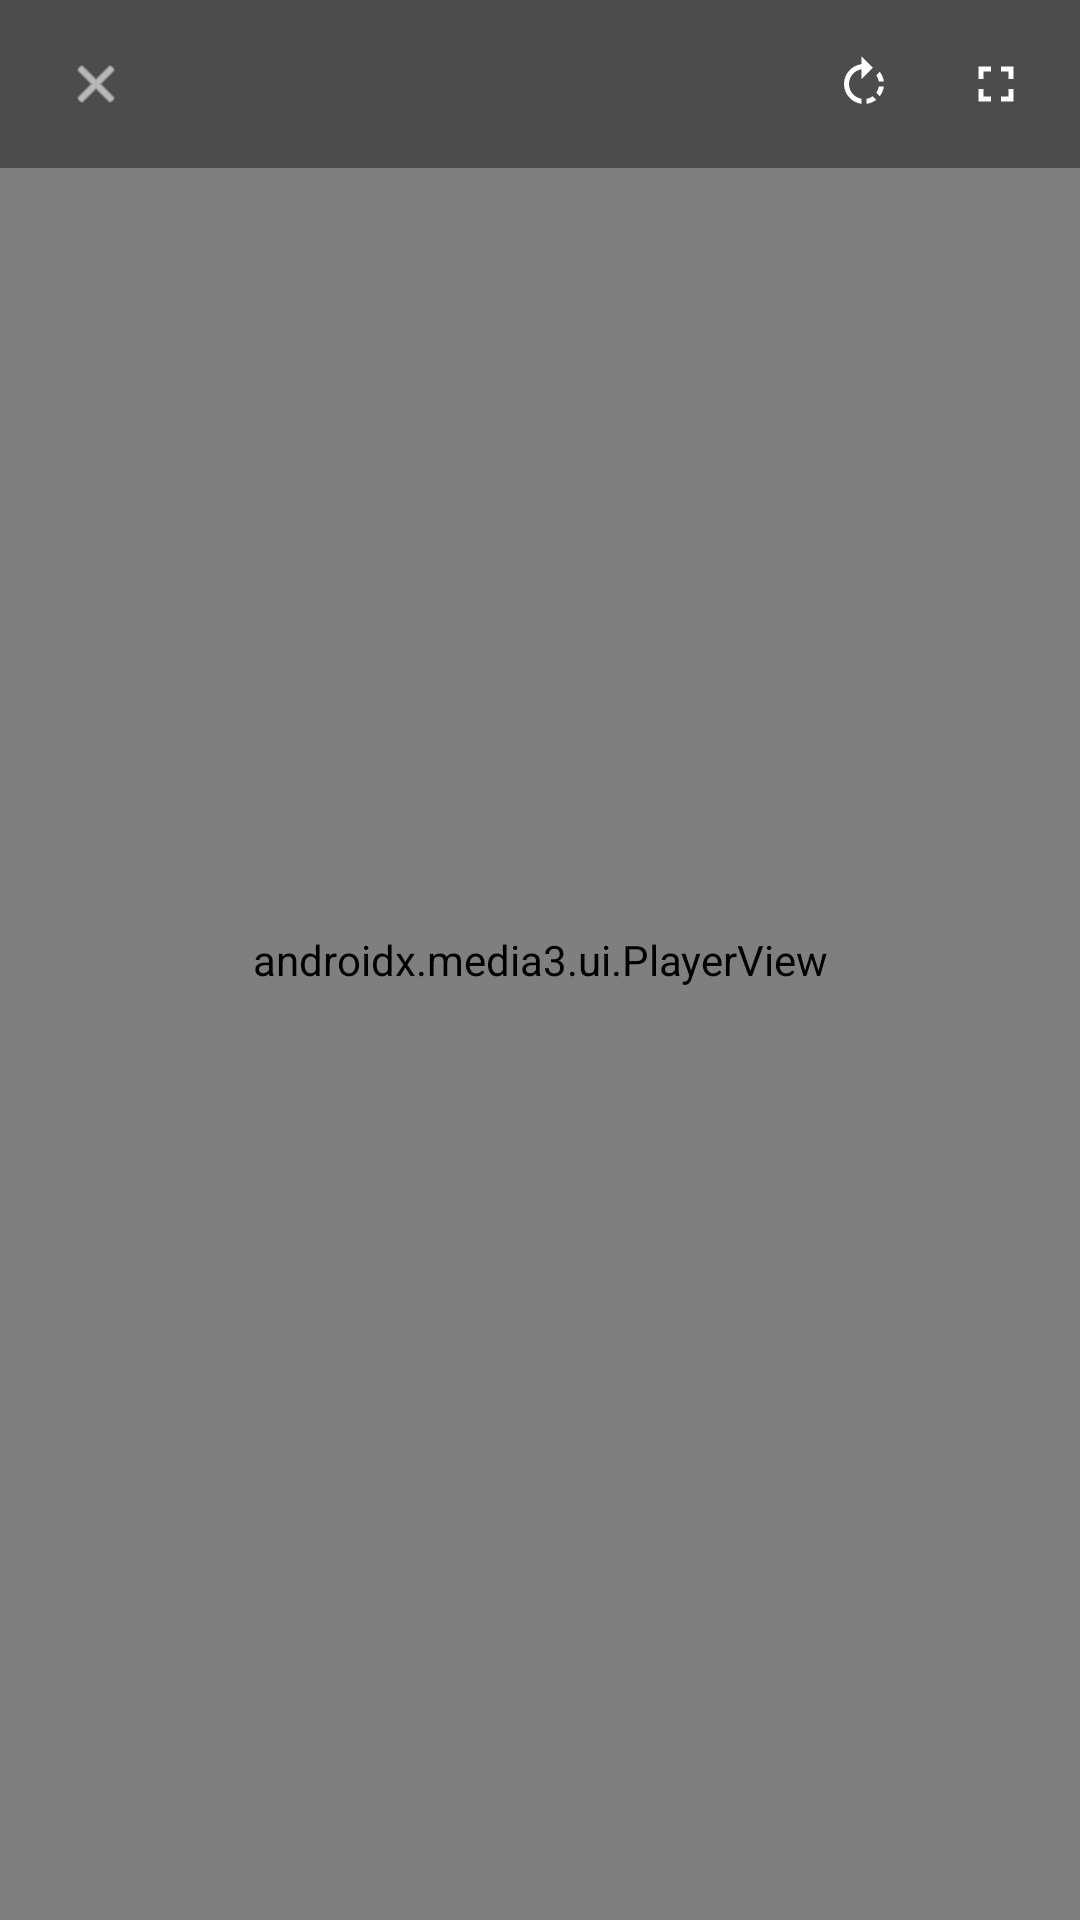

Icons on this 1080 x 1920 Android screen, each with the point to tap as (x,y):
Закрыть: (96,84)
На весь экран: (996,84)
Повернуть экран: (864,80)
